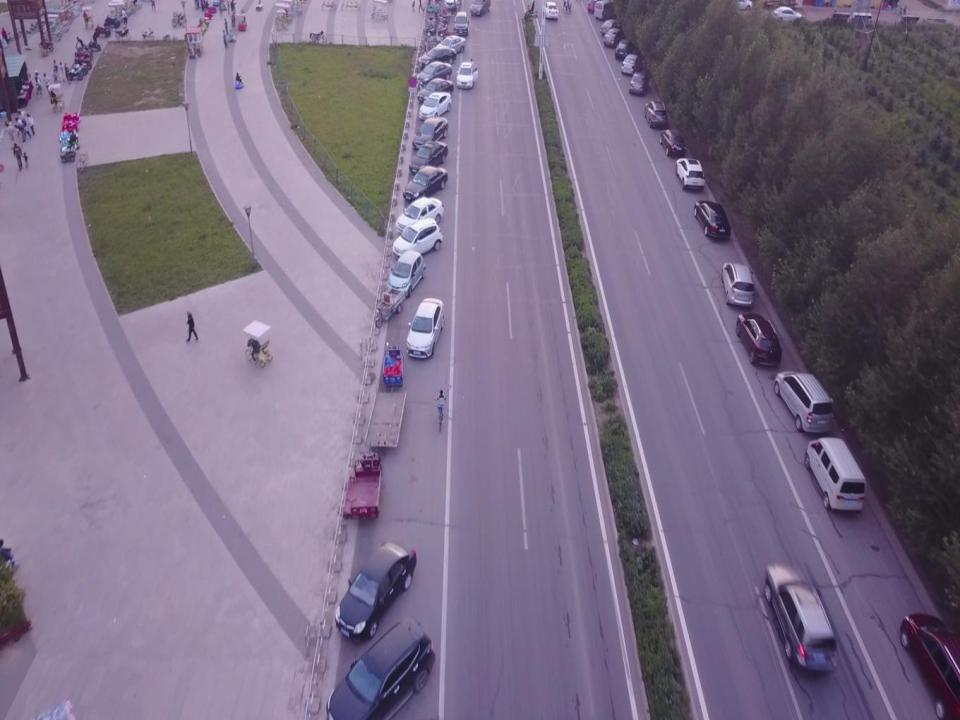car: (325, 617, 436, 719), (334, 537, 417, 641), (764, 562, 839, 674), (898, 612, 960, 719), (736, 312, 783, 368), (406, 298, 445, 360), (392, 218, 443, 262), (394, 196, 444, 236), (386, 250, 426, 298), (720, 260, 754, 310), (402, 165, 448, 201), (693, 200, 732, 241), (408, 140, 449, 174), (411, 116, 449, 150), (674, 157, 705, 191), (416, 77, 454, 104), (418, 90, 452, 120), (416, 60, 452, 87), (419, 46, 456, 69), (660, 128, 687, 157), (434, 34, 466, 57), (642, 101, 668, 129), (768, 4, 802, 24), (456, 62, 478, 90), (628, 71, 650, 95), (620, 53, 642, 76), (453, 9, 470, 37), (600, 18, 625, 37), (615, 39, 634, 61), (602, 27, 623, 46), (469, 0, 491, 18), (543, 1, 559, 20), (727, 0, 753, 11), (587, 0, 604, 14)
van: (804, 436, 865, 513), (773, 370, 834, 437), (594, 0, 618, 21)
